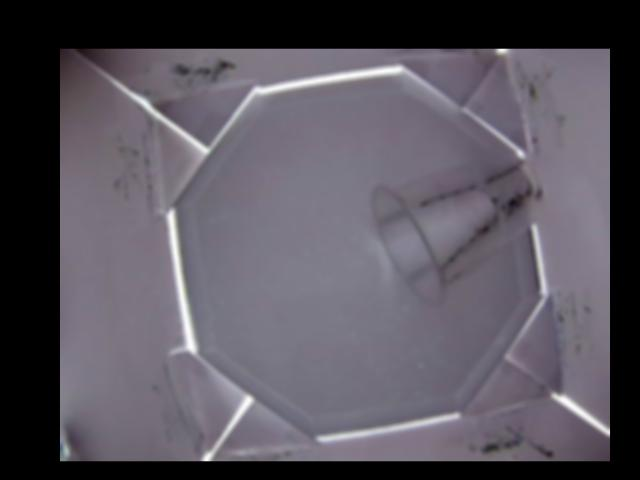Cup: (368, 150, 545, 307)
